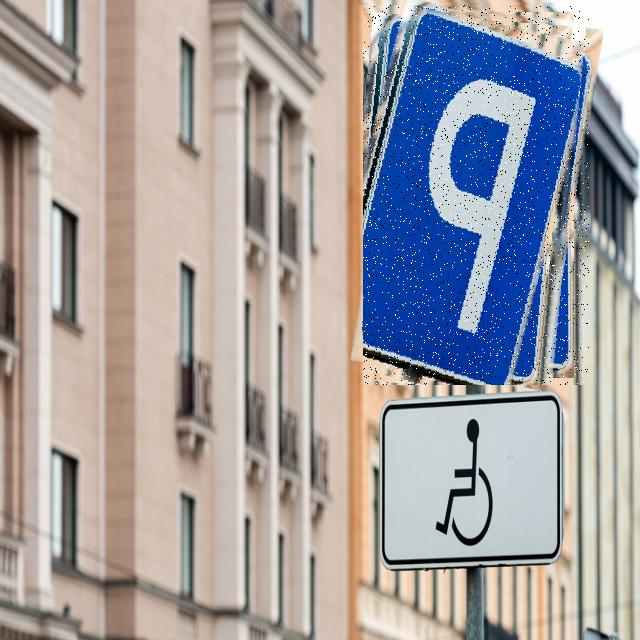parking: (363, 5, 590, 385)
